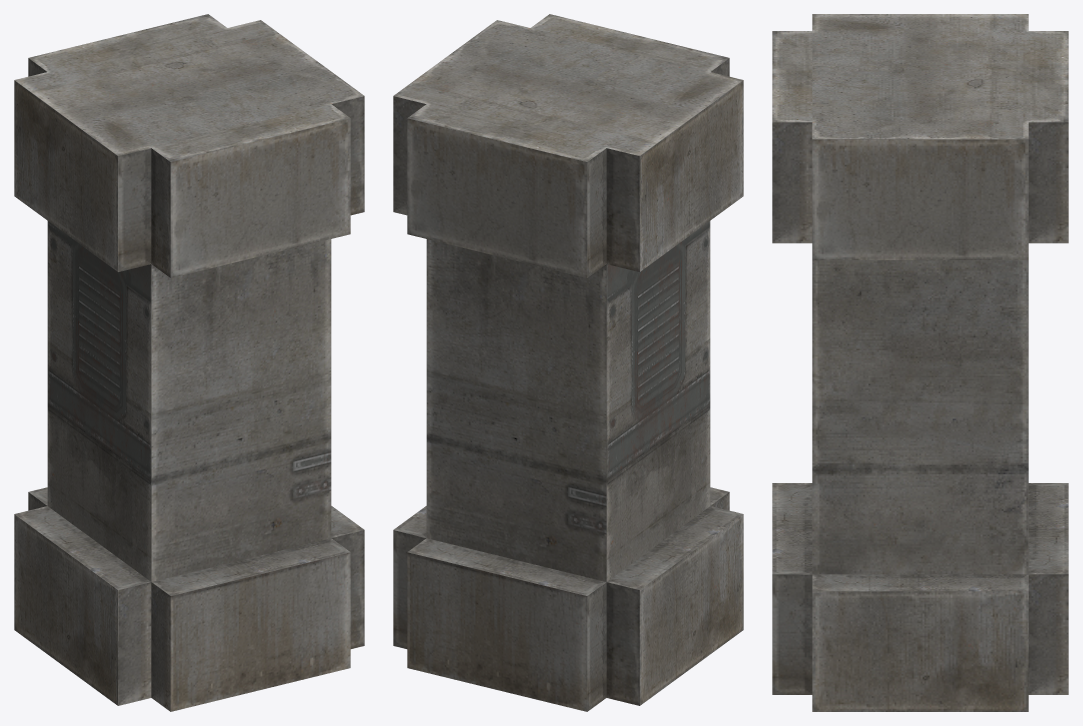
File: CP_Column_Concrete_A_06.fbx
3 renders of one model, left to right at view 1: azimuth 30°, elevation 25°; view 2: azimuth 150°, elevation 25°; view 3: azimuth 270°, elevation 25°, orthographic. The views are drawn at different scales.
Visible parts, largest first — view 1: CP_Column_Concrete_A_06; view 2: CP_Column_Concrete_A_06; view 3: CP_Column_Concrete_A_06.
Part boxes in pixels (x1,y1,x2,y2): CP_Column_Concrete_A_06: (14,14,364,711); CP_Column_Concrete_A_06: (393,14,743,711); CP_Column_Concrete_A_06: (772,14,1068,711).
Size of the model in its own units: 93.9 by 200 by 93.9.
